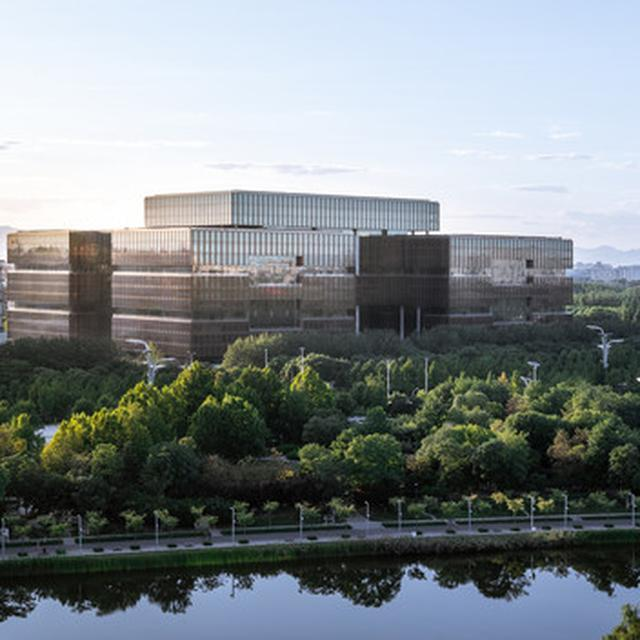building: (3, 190, 592, 374)
